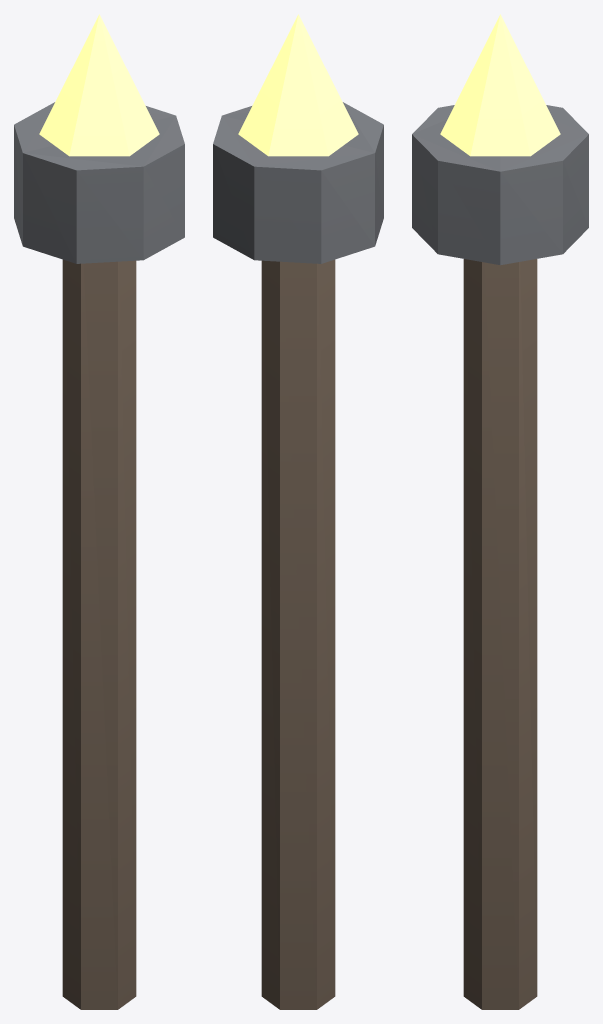
File: torch.glb
The picture shows the model from 3 angles, left to right: view 1: azimuth 30°, elevation 25°; view 2: azimuth 150°, elevation 25°; view 3: azimuth 270°, elevation 25°; orthographic projection.
Parts seen in each view (by area): view 1: torch; view 2: torch; view 3: torch.
Boxes of the visible parts, x1,y1,x2,y2 form: torch: [14, 14, 184, 1009]; torch: [213, 14, 383, 1009]; torch: [412, 14, 588, 1009].
Size of the model in its own units: 0.24 by 1.47 by 0.24.
